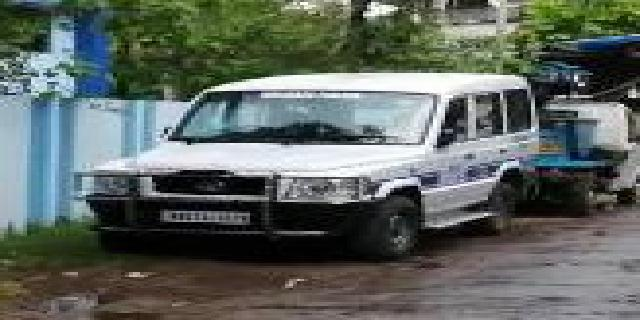Car: (73, 69, 549, 274)
